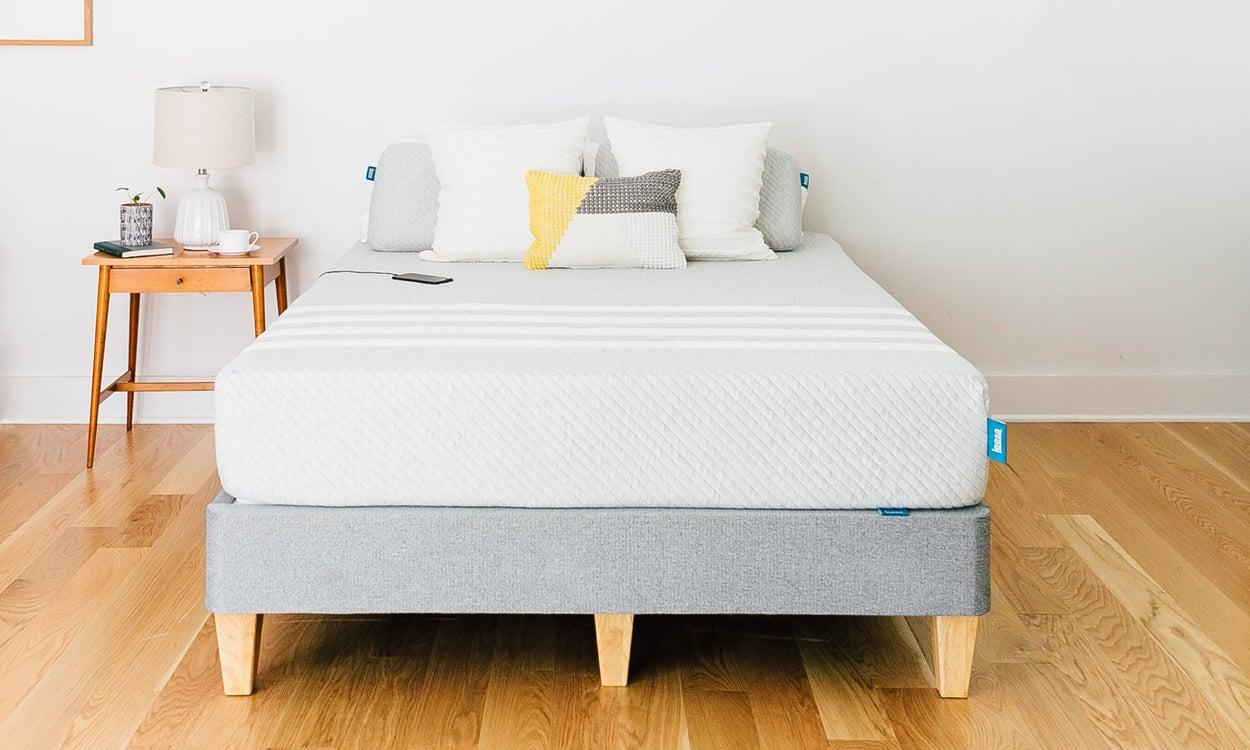bed: (290, 52, 980, 508)
